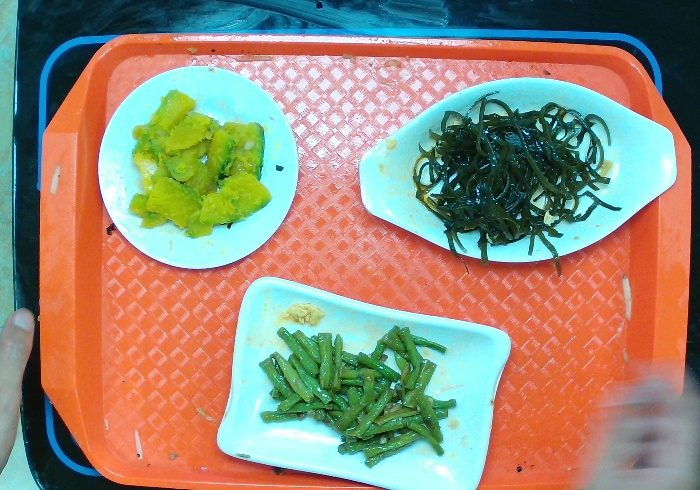RJxy-Si_Fang_Ao_Bian_Wan: (211, 271, 519, 486)
RJxy-Xiao_Yuan_Die: (89, 61, 302, 271)
RJxy-Yu_Pan: (347, 70, 683, 272)
